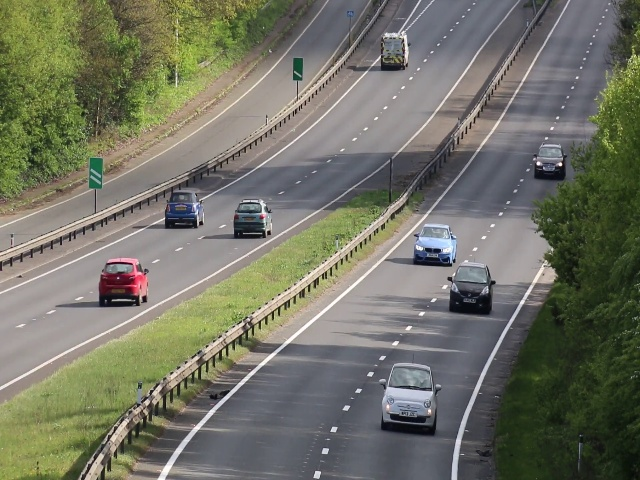car: (380, 359, 437, 432), (98, 254, 150, 307), (450, 261, 494, 312), (413, 217, 456, 265), (230, 197, 273, 235), (166, 187, 206, 227), (533, 137, 565, 178), (378, 31, 410, 70)
